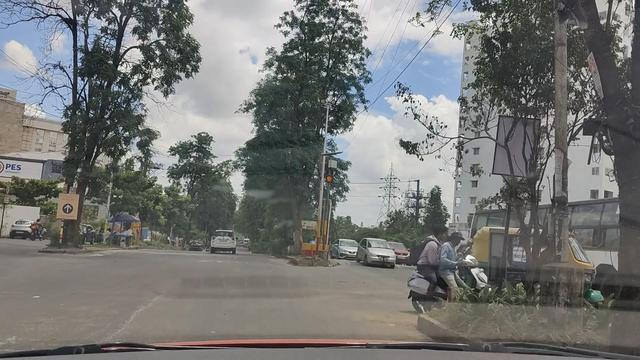RoadDamages: (108, 288, 171, 340)
